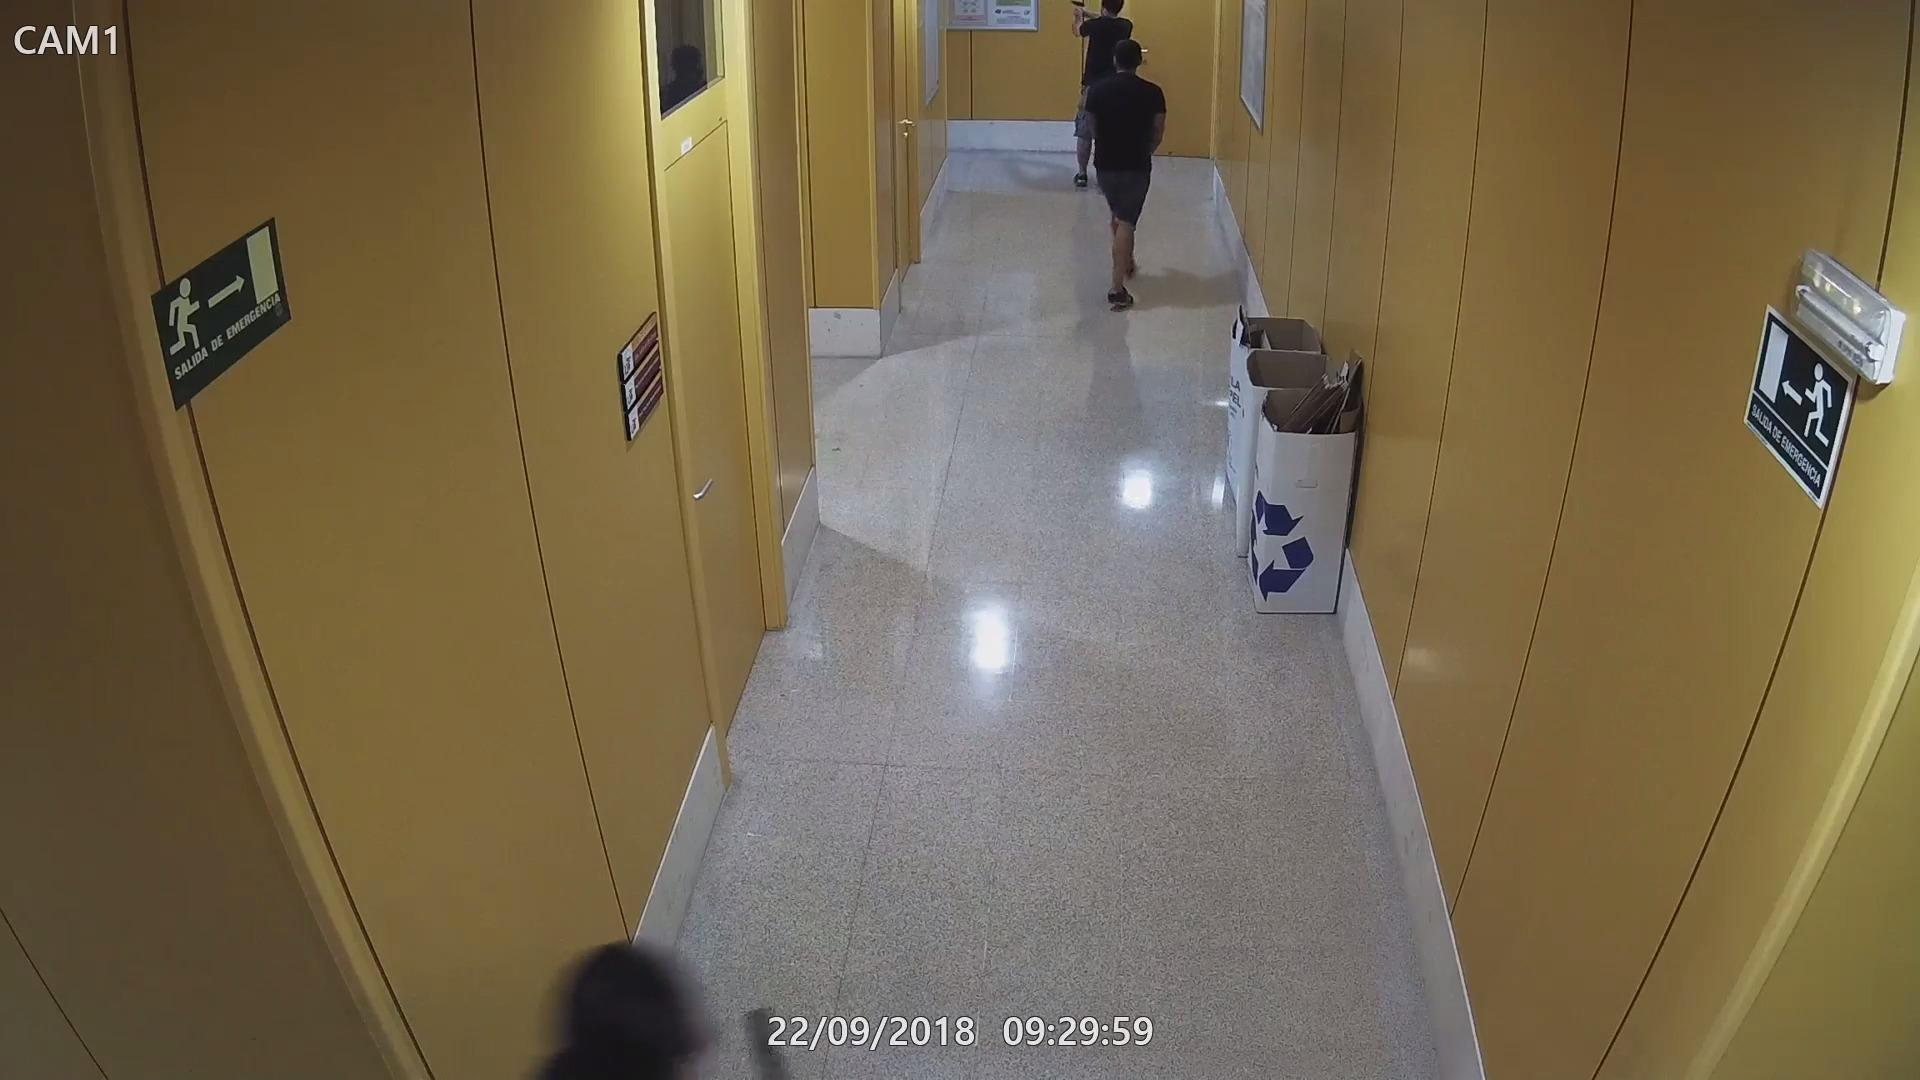Handgun: (1065, 0, 1091, 18)
